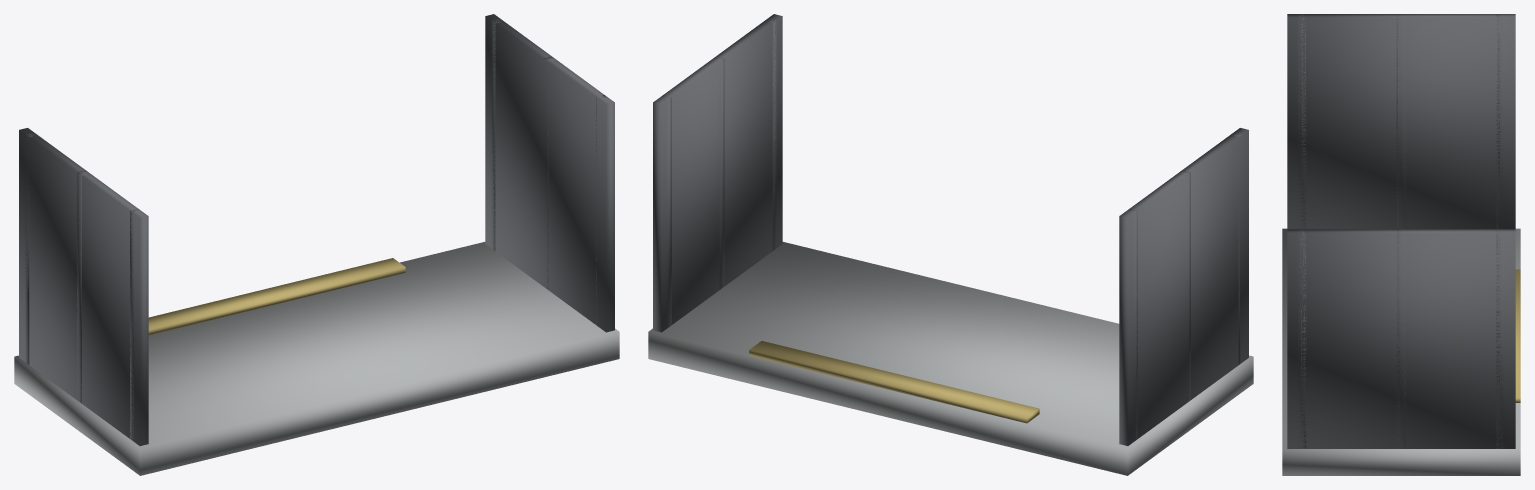
Rendered from floor_w220_d100_sides.glb.
3 views of the same model, side by side, from view 1: azimuth 30°, elevation 25°; view 2: azimuth 150°, elevation 25°; view 3: azimuth 270°, elevation 25° (orthographic). The views are drawn at different scales.
Parts seen in each view (by area): view 1: world; view 2: world; view 3: world.
Boxes of the visible parts, x1,y1,x2,y2 form: world: (14,14,619,475); world: (648,14,1253,475); world: (1282,14,1520,475).
Size of the model in its own units: 2.2 by 1.12 by 1.
